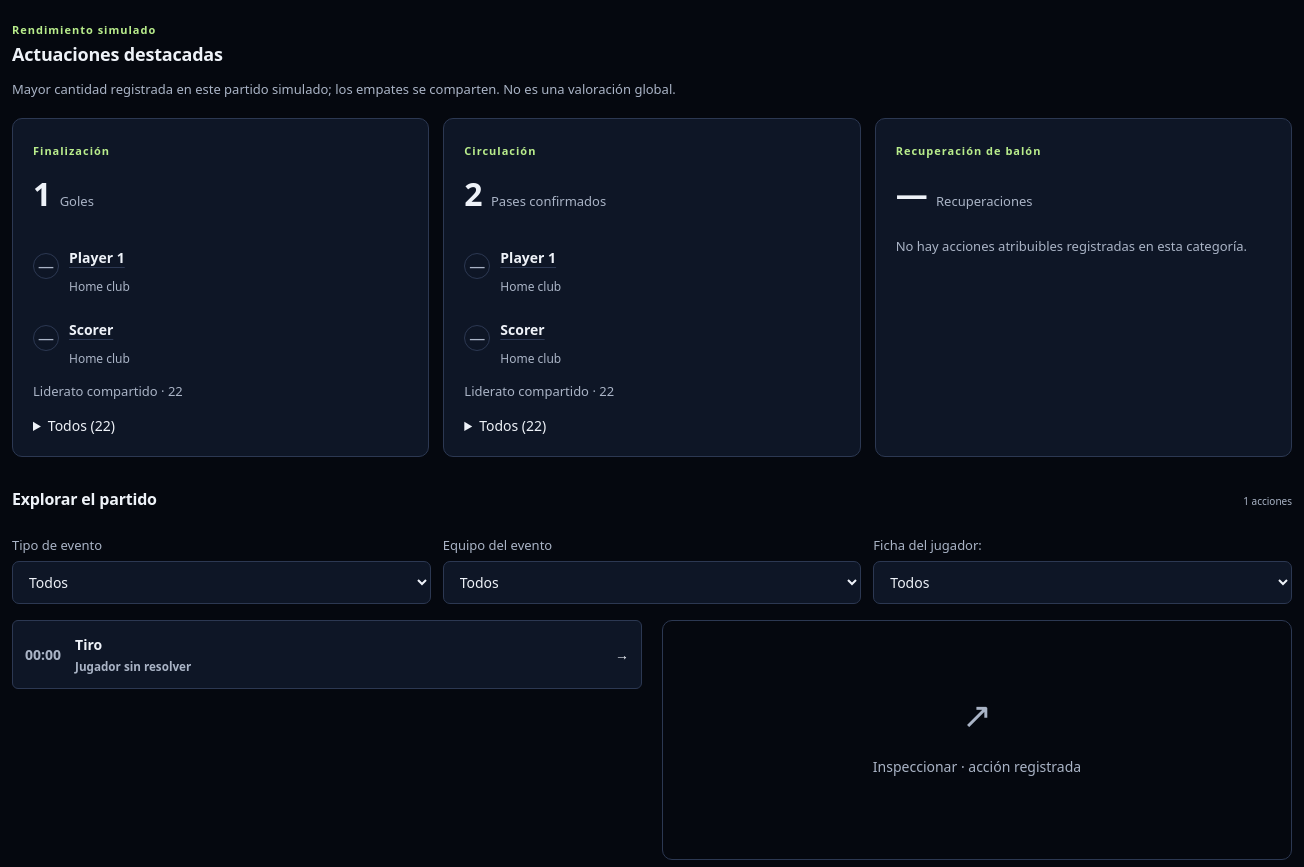
translates the recorded incomplete outcome without exposing raw codes
This screenshot has width=1304, height=867.
Click the button named "Inspeccionar Tiro" at (43, 655), box [12, 620, 642, 689]
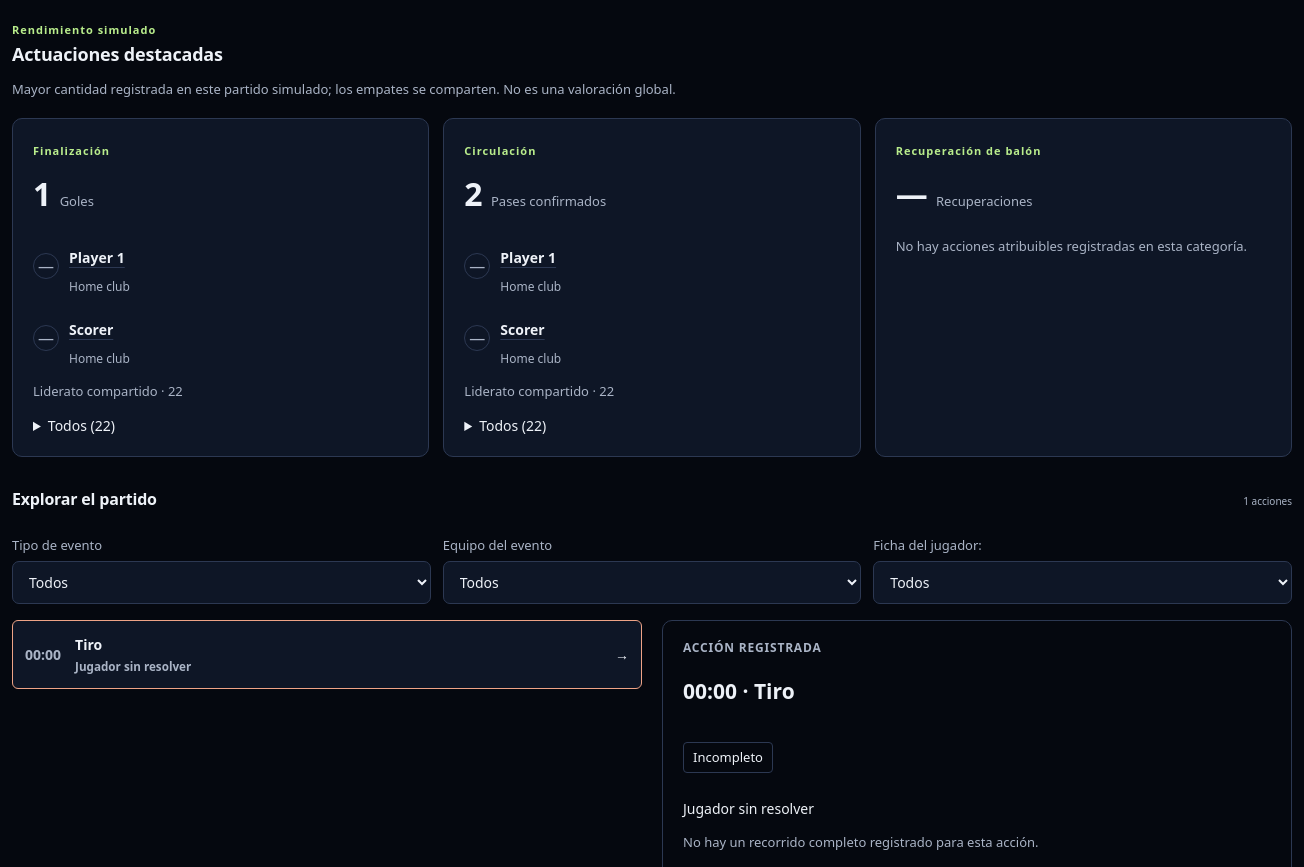
Check: the text "Incompleto" is shown, box [683, 742, 773, 773]
